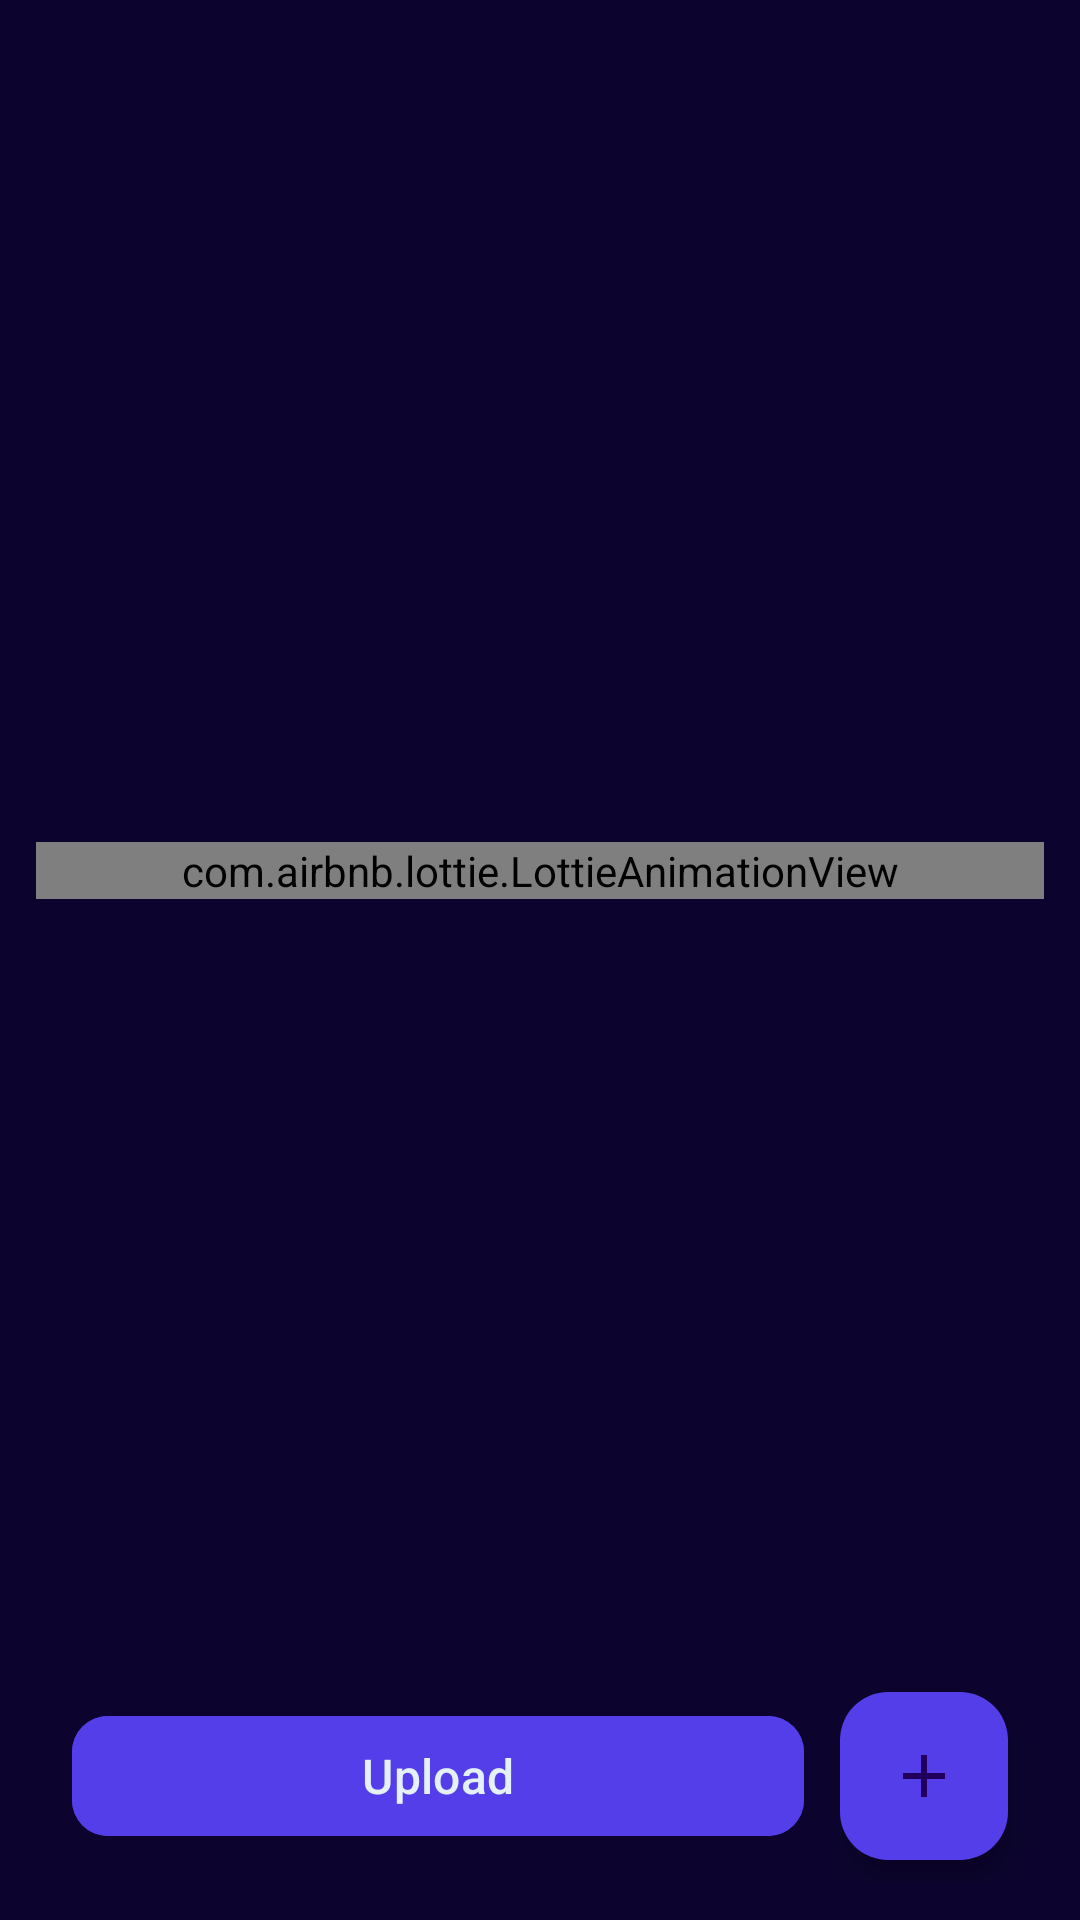

Where icons sit on this 1080 x 1920 app screen, as [x1,y1,x2,y2]:
Add Material: [840,1692,1008,1860]
